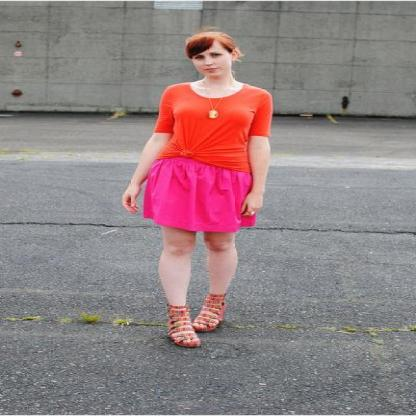shirt: (155, 83, 271, 174)
shoe: (159, 292, 226, 350)
skirt: (143, 158, 255, 232)
